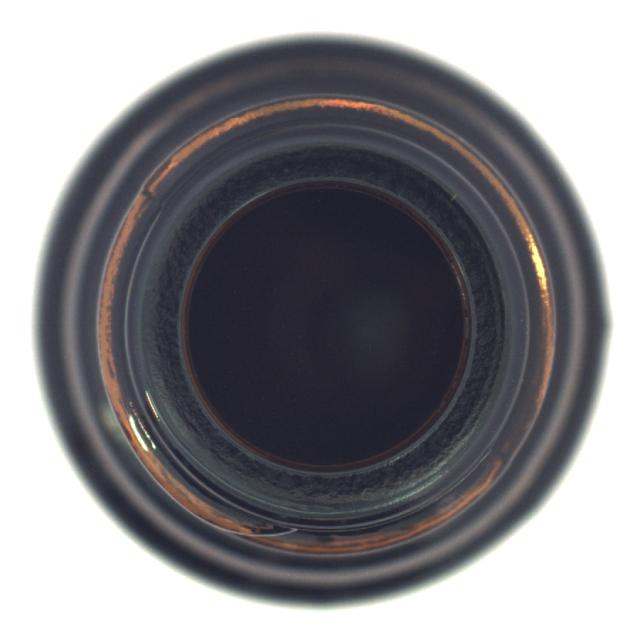bottle-good: (32, 32, 600, 606)
